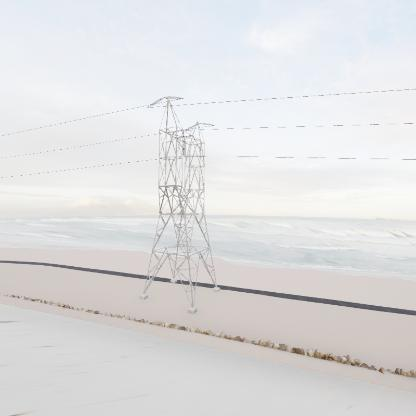tower: (139, 94, 223, 316)
